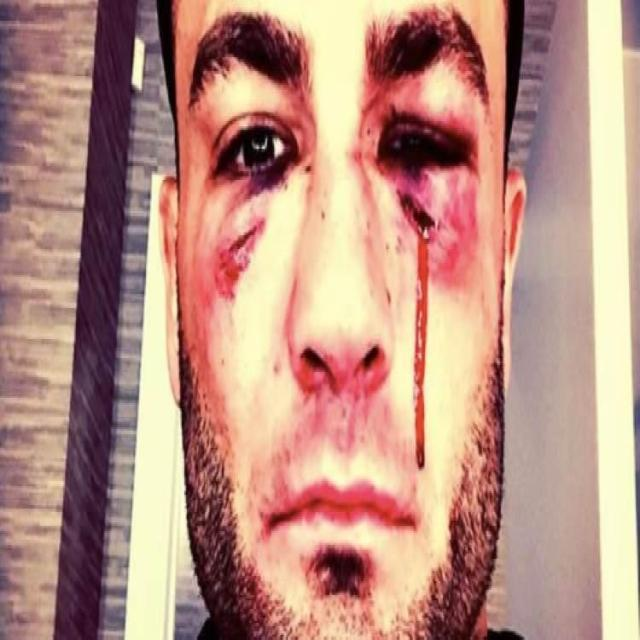flood: (395, 188, 443, 472)
